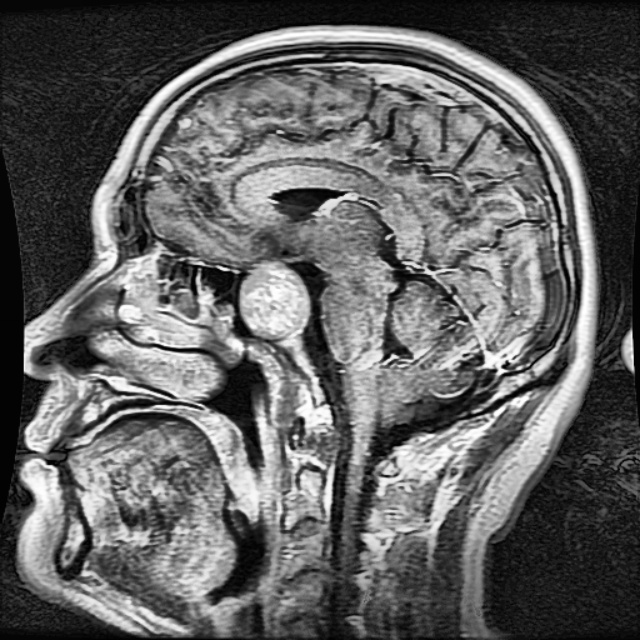Pituitary: (240, 262, 309, 339)
